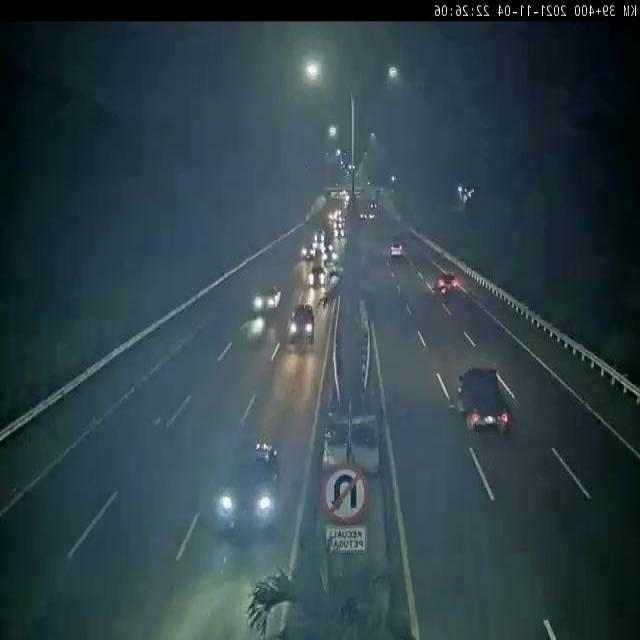Car: (203, 435, 290, 551), (282, 294, 318, 349), (248, 280, 285, 316), (428, 266, 457, 302), (308, 263, 332, 295), (385, 236, 410, 262)
Truck: (448, 359, 524, 447)
